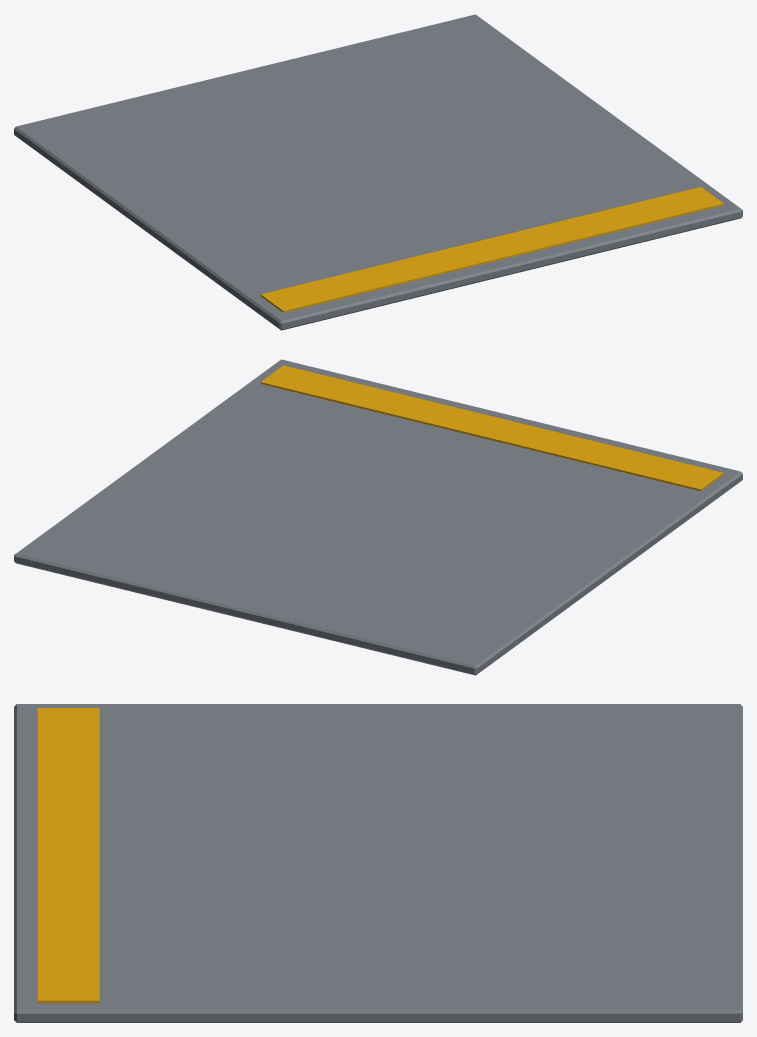
Rendered from YellowZoneFloor.fbx.
3 views of the same model, one above another, from view 1: azimuth 30°, elevation 25°; view 2: azimuth 150°, elevation 25°; view 3: azimuth 270°, elevation 25° (orthographic). The views are drawn at different scales.
Parts seen in each view (by area): view 1: YellowZoneFloor; view 2: YellowZoneFloor; view 3: YellowZoneFloor.
Part boxes in pixels (left/top/right/bottom): YellowZoneFloor: left=14, top=14, right=742, bottom=330; YellowZoneFloor: left=14, top=359, right=742, bottom=675; YellowZoneFloor: left=14, top=704, right=742, bottom=1022.
Bounding box in the file's own units: 200 × 4.8 × 200.
Materials: 1 (1 with a texture image).
